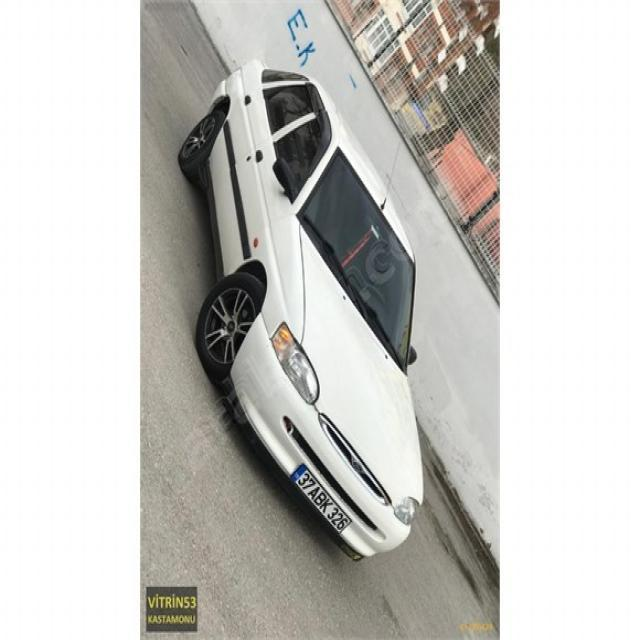plate: (286, 462, 355, 540)
